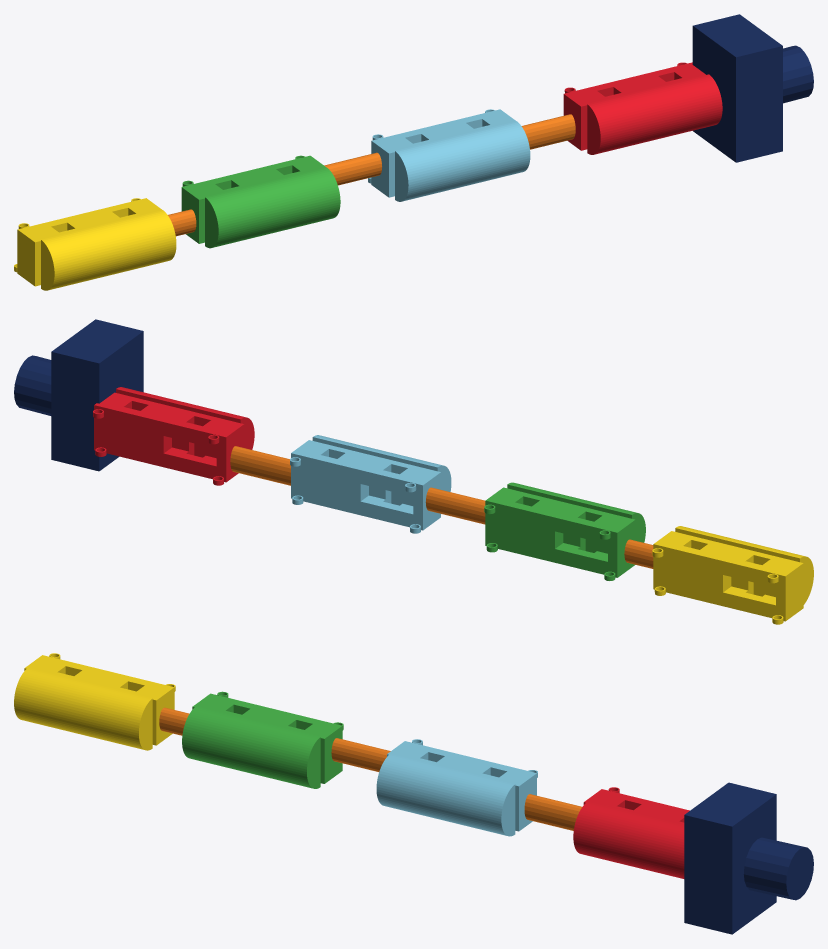
The model's file is tinker.obj.
3 views of the same model, one above another, from view 1: azimuth 30°, elevation 25°; view 2: azimuth 150°, elevation 25°; view 3: azimuth 330°, elevation 25° (orthographic). The views are drawn at different scales.
Parts seen in each view (by area): view 1: group_0_1650274, group_0_16768282, group_0_8768998, group_0_15277357, group_0_4634441, group_0_16089887; view 2: group_0_1650274, group_0_16768282, group_0_4634441, group_0_15277357, group_0_8768998, group_0_16089887; view 3: group_0_1650274, group_0_4634441, group_0_8768998, group_0_16768282, group_0_15277357, group_0_16089887.
Boxes of the visible parts, x1,y1,x2,y2 form: group_0_1650274: [692, 14, 813, 162]; group_0_16768282: [14, 198, 176, 290]; group_0_8768998: [368, 109, 530, 201]; group_0_15277357: [563, 62, 722, 154]; group_0_4634441: [181, 155, 340, 248]; group_0_16089887: [168, 114, 575, 236]; group_0_1650274: [14, 319, 143, 471]; group_0_16768282: [652, 526, 813, 624]; group_0_4634441: [484, 482, 645, 580]; group_0_15277357: [93, 387, 254, 485]; group_0_8768998: [290, 435, 451, 533]; group_0_16089887: [230, 446, 653, 568]; group_0_1650274: [684, 782, 813, 934]; group_0_4634441: [182, 691, 343, 788]; group_0_8768998: [376, 739, 537, 836]; group_0_16768282: [14, 653, 175, 750]; group_0_15277357: [573, 787, 689, 878]; group_0_16089887: [159, 707, 581, 830].
Bounding box in the file's own units: 325 × 43 × 38.
